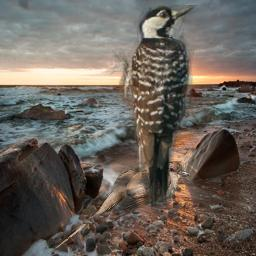Cuckoo: (55, 161, 192, 249)
Woodpecker: (105, 5, 199, 219)
